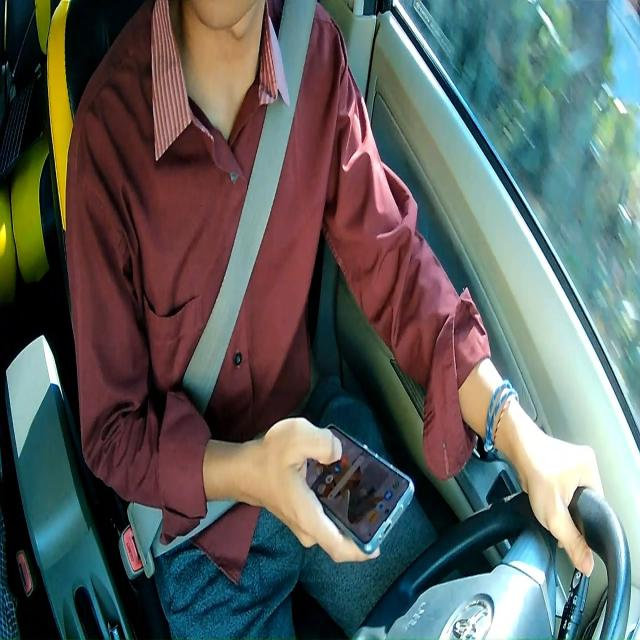phone: (300, 421, 416, 554)
